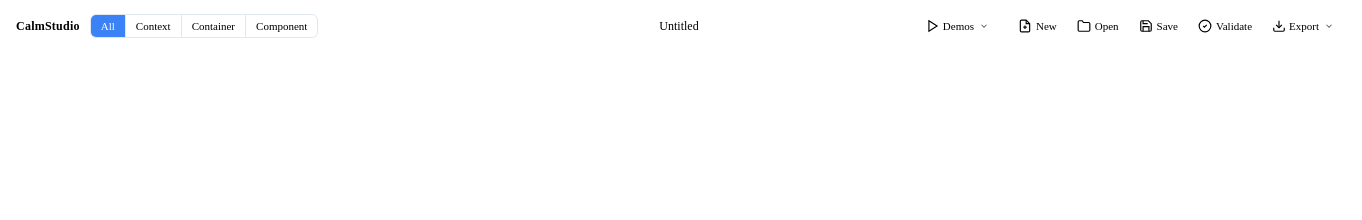
Toolbar — Scaler.toml export button › renders Scaler.toml export button when showScalerTomlExport is true
Open export menu first
Click the button with aria-label "export diagram" at (1303, 26), box top-left (1264, 13), bottom-right (1342, 39)
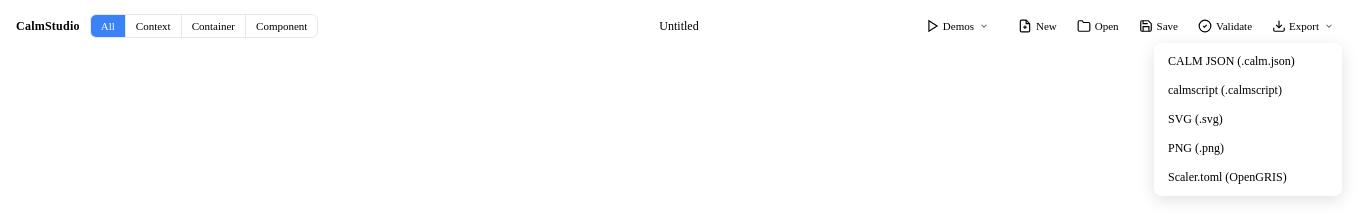
Now the menu item "Scaler.toml (OpenGRIS)" is shown, box top-left (1158, 163), bottom-right (1338, 192)
